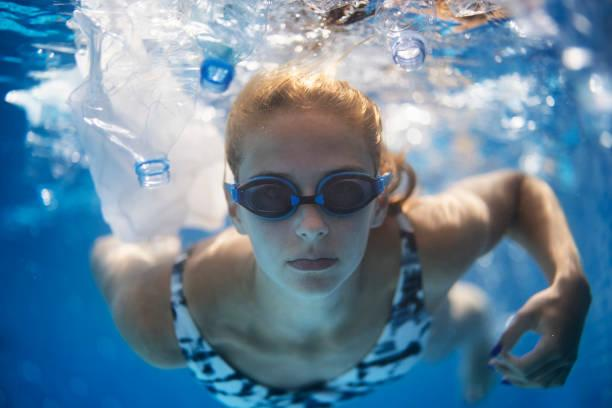Plastic: (84, 7, 200, 193), (13, 90, 83, 216), (182, 0, 271, 90), (372, 3, 441, 74)
